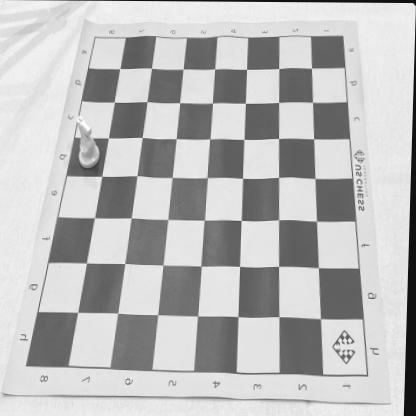white-knight: (75, 115, 102, 170)
